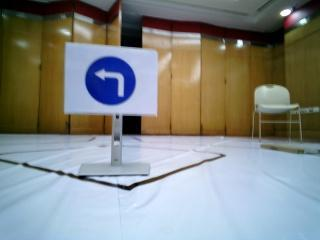left: (63, 42, 161, 110)
